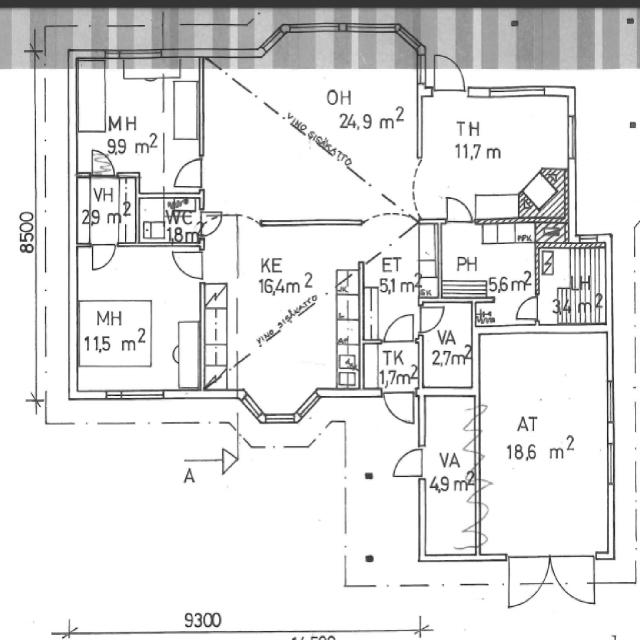door: (420, 294, 472, 391), (428, 50, 469, 94), (169, 242, 207, 283), (380, 387, 418, 427), (84, 144, 122, 182), (170, 154, 207, 192), (389, 447, 427, 480), (382, 311, 418, 344), (442, 192, 477, 225), (511, 293, 544, 324), (415, 302, 446, 335), (88, 241, 118, 274), (197, 205, 224, 238), (236, 210, 268, 229), (375, 581, 404, 599)
window: (484, 84, 550, 102), (601, 369, 618, 434), (564, 110, 580, 178), (107, 387, 167, 403), (290, 394, 322, 424), (602, 430, 618, 488)
zone: (198, 16, 423, 224), (474, 322, 612, 552), (218, 220, 361, 414), (72, 240, 206, 398), (421, 90, 571, 218), (70, 59, 203, 183), (438, 219, 539, 323), (422, 392, 478, 556), (538, 236, 612, 326), (501, 550, 602, 614), (421, 298, 474, 392), (74, 174, 140, 243), (137, 192, 204, 245), (364, 341, 421, 391)
